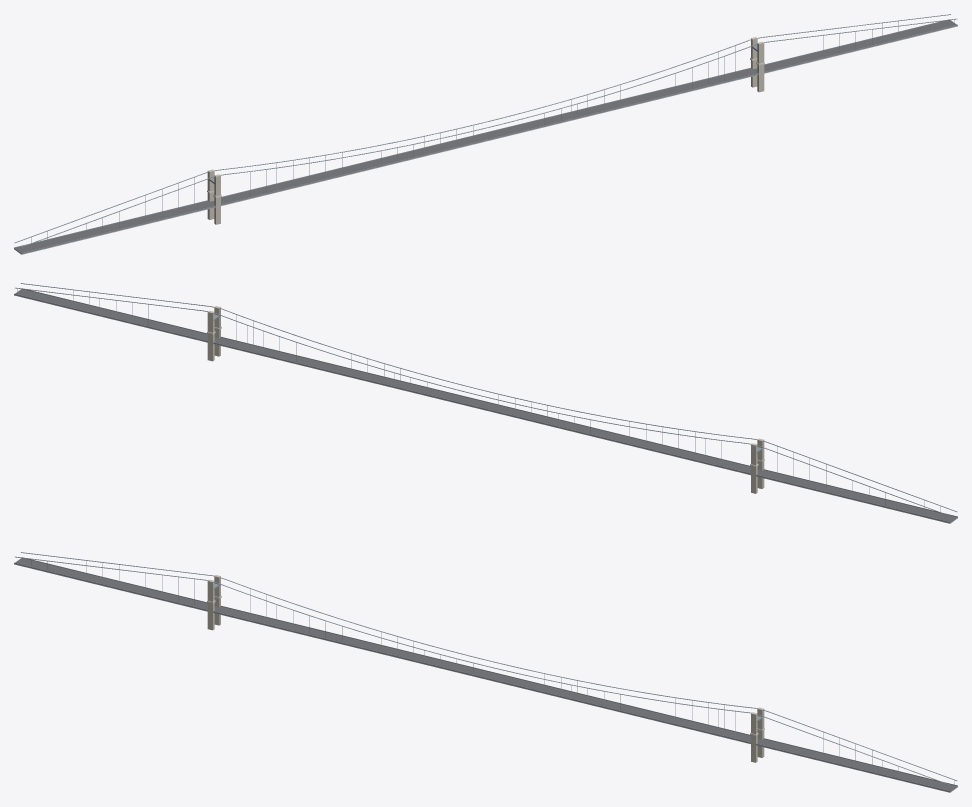
3 renders of one model, top to bottom at view 1: azimuth 30°, elevation 25°; view 2: azimuth 150°, elevation 25°; view 3: azimuth 330°, elevation 25°, orthographic.
Visible parts, largest first — view 1: worldgen; view 2: worldgen; view 3: worldgen.
Part boxes in pixels (x1,y1,x2,y2): worldgen: (14, 14, 957, 254); worldgen: (14, 283, 957, 523); worldgen: (14, 552, 957, 792).
Bounding box in the file's own units: 1830 × 90.26 × 29.94.
